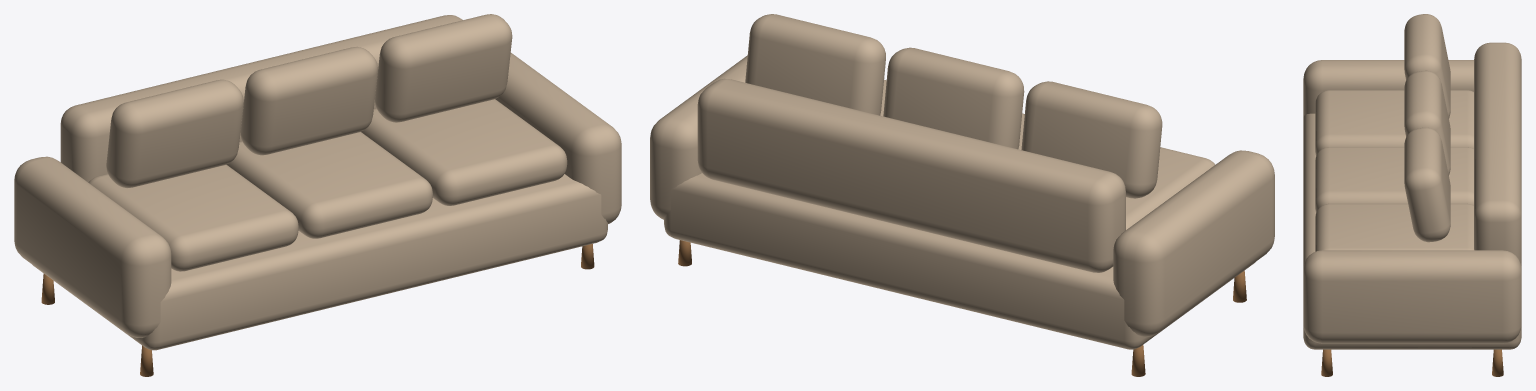
File: sofa-nube.glb
3 renders of one model, left to right at view 1: azimuth 30°, elevation 25°; view 2: azimuth 150°, elevation 25°; view 3: azimuth 270°, elevation 25°, orthographic. The views are drawn at different scales.
Parts seen in each view (by area): view 1: sofa_base, sofa_brazo_1, sofa_asiento_1, sofa_asiento_0, sofa_asiento_2, sofa_cojin_resp_2, sofa_cojin_resp_0, sofa_cojin_resp_1, sofa_brazo_-1, sofa_respaldo; view 2: sofa_respaldo, sofa_base, sofa_brazo_1, sofa_cojin_resp_2, sofa_cojin_resp_1, sofa_cojin_resp_0, sofa_brazo_-1, sofa_asiento_2; view 3: sofa_brazo_-1, sofa_respaldo, sofa_asiento_1, sofa_asiento_2, sofa_asiento_0, sofa_cojin_resp_0, sofa_brazo_1, sofa_base, sofa_cojin_resp_1, sofa_cojin_resp_2, sofa_pata_-1_1, sofa_pata_-1_-1.
Boxes of the visible parts, x1,y1,x2,y2 form: sofa_base: (33,174,607,350); sofa_brazo_1: (14,156,171,337); sofa_asiento_1: (226,132,432,238); sofa_asiento_0: (361,99,567,205); sofa_asiento_2: (88,164,298,271); sofa_cojin_resp_2: (106,79,243,188); sofa_cojin_resp_0: (375,14,512,122); sofa_cojin_resp_1: (240,46,377,155); sofa_brazo_-1: (495,52,621,223); sofa_respaldo: (60,15,462,182); sofa_respaldo: (697,78,1125,272); sofa_base: (664,173,1255,349); sofa_brazo_1: (1113,150,1274,336); sofa_cojin_resp_2: (1021,81,1162,198); sofa_cojin_resp_1: (883,47,1024,149); sofa_cojin_resp_0: (745,14,885,115); sofa_brazo_-1: (650,55,747,219); sofa_asiento_2: (1126,147,1215,229); sofa_brazo_-1: (1303,250,1521,343); sofa_respaldo: (1474,42,1521,265); sofa_asiento_1: (1315,147,1473,212); sofa_asiento_2: (1315,90,1473,155); sofa_asiento_0: (1315,203,1473,251); sofa_cojin_resp_0: (1404,127,1450,242); sofa_brazo_1: (1303,60,1473,116); sofa_base: (1303,113,1521,349); sofa_cojin_resp_1: (1404,70,1450,175); sofa_cojin_resp_2: (1404,14,1450,118); sofa_pata_-1_1: (1321,349,1332,376); sofa_pata_-1_-1: (1492,349,1503,376).
Bounding box in the file's own units: 2.1 × 0.8828 × 0.92.
